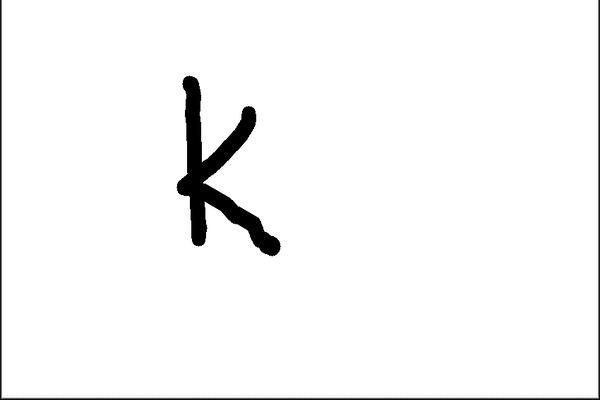K: (173, 71, 284, 265)
